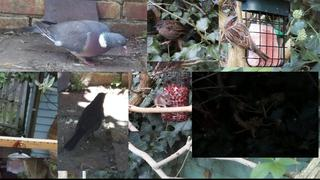blackbird: (63, 92, 108, 151)
dunnock: (152, 20, 199, 46)
mouse: (142, 92, 172, 114)
sparrow: (224, 16, 270, 62)
wood pigeon: (20, 20, 127, 67)
